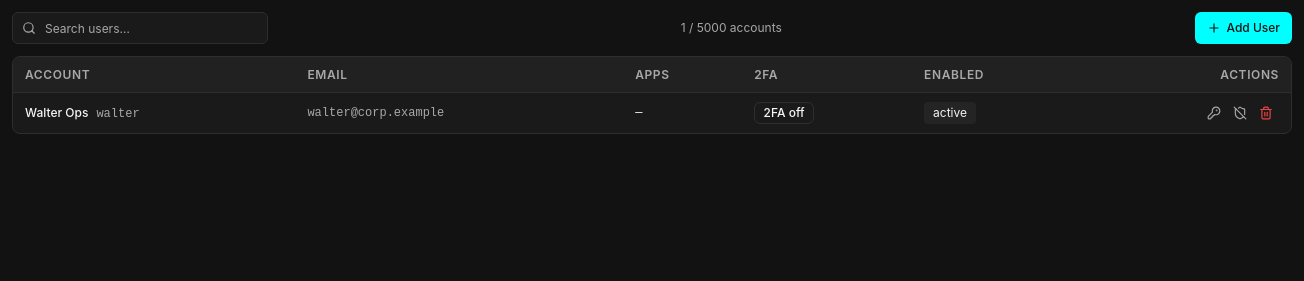
Test case: UserDirectoryTable.vue (user creation + TOTP reset) › enrolls 2FA via the reset action and shows the one-time secret
What coordinates should you click on to do the following:
click the button with test id "user-totp-reset-0"
I would click on:
 (1240, 113)
Its box is [1227,101,1253,125].
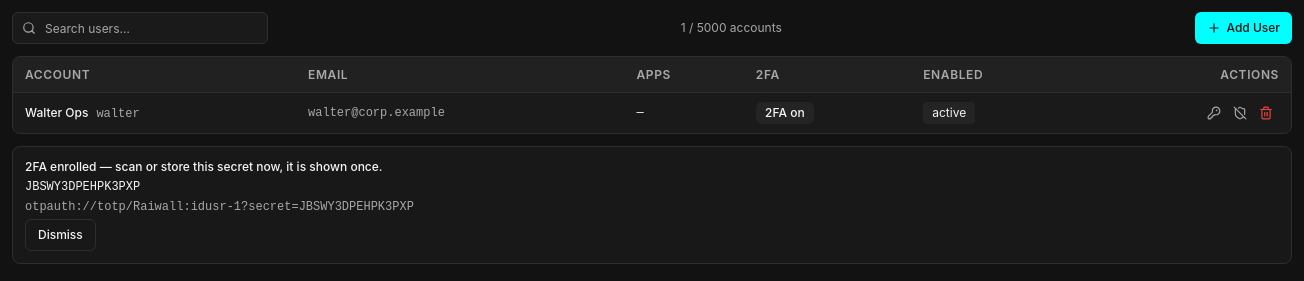
Expected: the element with test id "totp-enrollment-panel" is shown, [12,146,1292,264]
Expected: the text "JBSWY3DPEHPK3PXP" is shown, [25,180,140,194]
